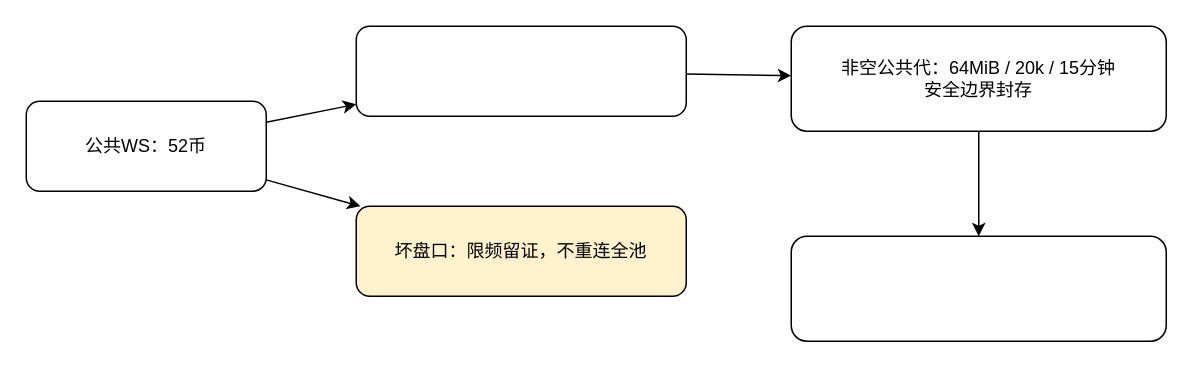
Image size: 1193x368. Some labels were removed from this diagram. The box of each missing label's shape, as (x1, y1, x2, y2) in pixels:
COS验哈 → 原授权本地释放 全部仍pin：复用审批，不造新plan: (790, 235, 1166, 341)
有效行情：原采集路径: (355, 25, 686, 116)
